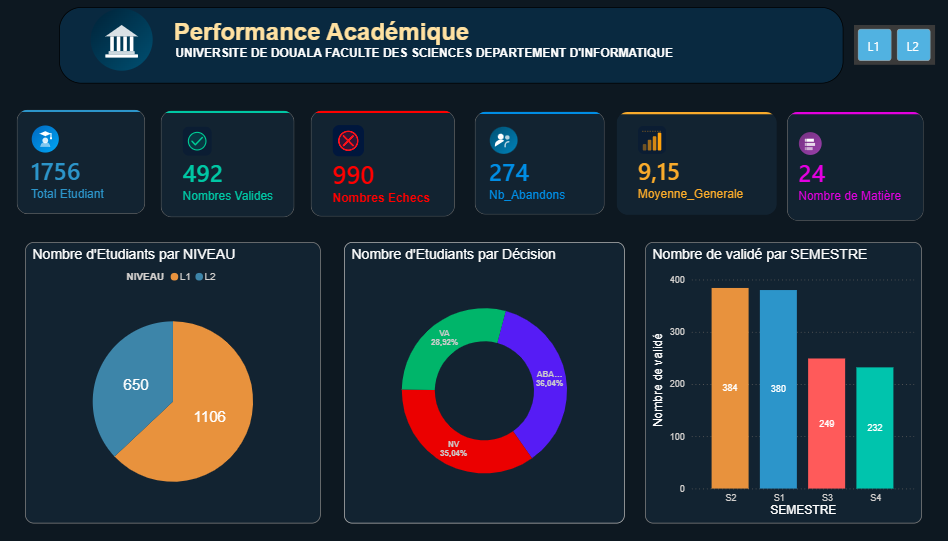

Layout of this report page (visuals, bound fields, positions):
{"tool":"powerbi","page":{"name":"Page 1","canvas":[1280,730],"ordinal":0},"visuals":[{"type":"textbox","box":[90.9,17.4,1044.8,101.5],"z":0},{"type":"cardVisual","fields":{"Data":["FAITS_NOTES.nb_etudiant"]},"box":[29.4,149.6,181.7,149.6],"z":1000},{"type":"cardVisual","fields":{"Data":["FAITS_NOTES_2.Nb_Valides"]},"box":[221,150,188.4,152.3],"z":2000},{"type":"cardVisual","fields":{"Data":["FAITS_NOTES_2.Nb_Echecs"]},"box":[420.9,150.5,202.5,151.9],"z":3000},{"type":"cardVisual","fields":{"Data":["FAITS_NOTES_2.Moyenne_Generale"]},"box":[828,153.2,223.8,146.5],"z":4000},{"type":"cardVisual","fields":{"Data":["FAITS_NOTES.nb_matiere"]},"box":[1061,157.2,182.5,145.2],"z":5000},{"type":"donutChart","fields":{"Y":["FAITS_NOTES.Nb_Etudiants"],"Category":["FAITS_NOTES.DEC"]},"box":[470.3,330,374.1,375.4],"z":6000},{"type":"columnChart","fields":{"Y":["FAITS_NOTES.Nbre_valide"],"Category":["DIM_SEMESTRE.SEMESTRE"]},"box":[871.1,330,368.8,375.4],"z":7000},{"type":"pieChart","fields":{"Y":["FAITS_NOTES.Nb_Etudiants"],"Category":["DIM_NIVEAU.NIVEAU"]},"box":[45.4,330,394.2,375.4],"z":8000},{"type":"image","box":[126.9,17.4,94.9,86.8],"z":9000},{"type":"advancedSlicerVisual","fields":{"Values":["DIM_NIVEAU.NIVEAU"]},"box":[1149.1,41.4,108.2,53.4],"z":10000},{"type":"cardVisual","fields":{"Data":["FAITS_NOTES_2.Nb_Abandons"]},"box":[639.4,151.9,183.8,147.9],"z":11000}]}

Visuals, with their boxes in screenshot pixels (x1, y1, x2, y2), scaled from the page's 1280x730 canvas onto the 948x541 screenshot:
textbox: 67/13/841/88
cardVisual - FAITS_NOTES.nb_etudiant: 22/111/156/222
cardVisual - FAITS_NOTES_2.Nb_Valides: 164/111/303/224
cardVisual - FAITS_NOTES_2.Nb_Echecs: 312/112/462/224
cardVisual - FAITS_NOTES_2.Moyenne_Generale: 613/114/779/222
cardVisual - FAITS_NOTES.nb_matiere: 786/117/921/224
donutChart - FAITS_NOTES.Nb_Etudiants x FAITS_NOTES.DEC: 348/245/625/523
columnChart - FAITS_NOTES.Nbre_valide x DIM_SEMESTRE.SEMESTRE: 645/245/918/523
pieChart - FAITS_NOTES.Nb_Etudiants x DIM_NIVEAU.NIVEAU: 34/245/326/523
image: 94/13/164/77
advancedSlicerVisual - DIM_NIVEAU.NIVEAU: 851/31/931/70
cardVisual - FAITS_NOTES_2.Nb_Abandons: 474/113/610/222
